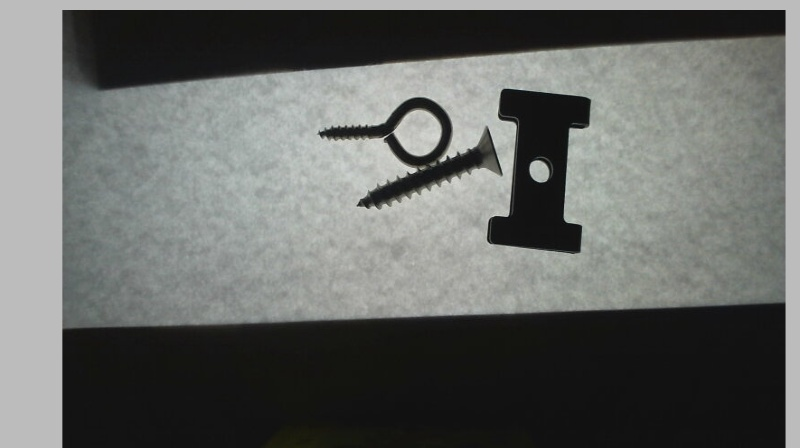O001: (313, 95, 453, 170)
O002: (483, 86, 592, 255)
S001: (354, 125, 504, 211)
